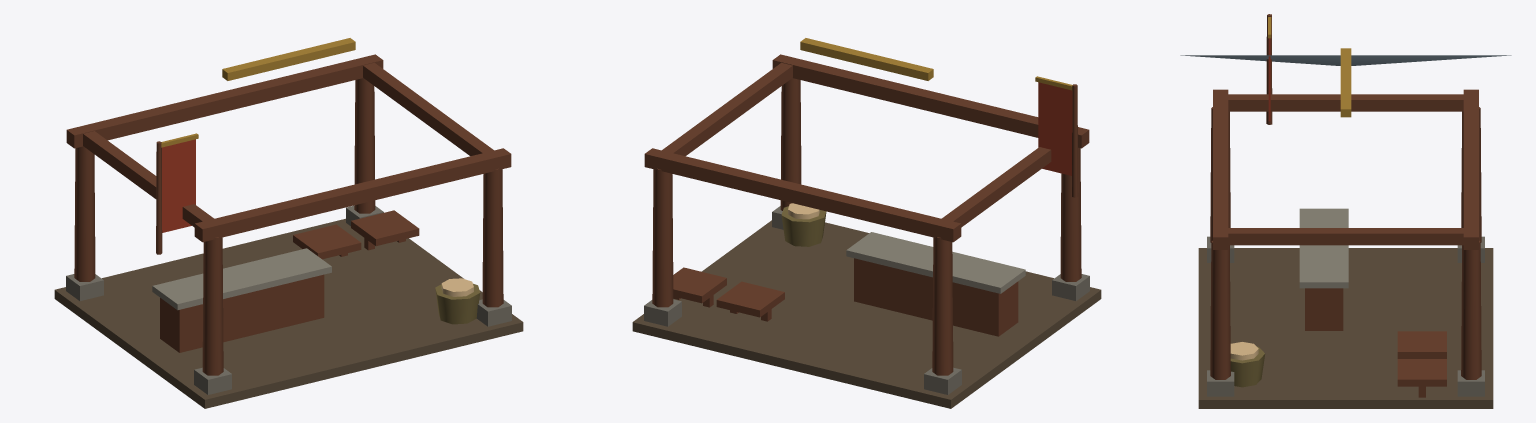
Rendered from tang-teahouse.glb.
3 renders of one model, left to right at view 1: azimuth 30°, elevation 25°; view 2: azimuth 150°, elevation 25°; view 3: azimuth 270°, elevation 25°, orthographic. The views are drawn at different scales.
Visible parts, largest first — view 1: tang-teahouse; view 2: tang-teahouse; view 3: tang-teahouse.
Part boxes in pixels (<box>): tang-teahouse: <box>54,38,523,408</box>; tang-teahouse: <box>632,38,1101,408</box>; tang-teahouse: <box>1180,14,1511,408</box>.
Bounding box in the file's own units: 8.11 × 5.14 × 6.45.
